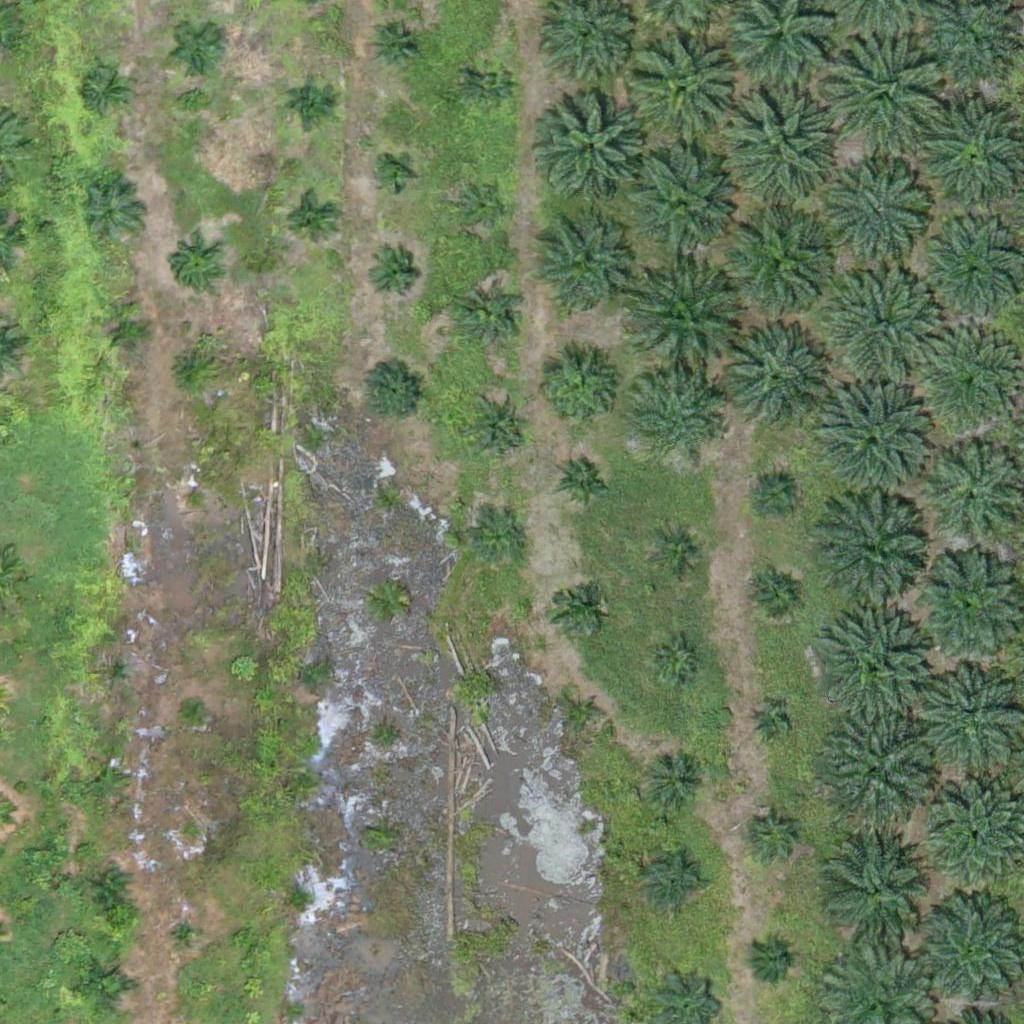Kelapa_Sawit: (715, 81, 840, 207), (822, 29, 947, 155), (830, 266, 943, 380), (716, 322, 829, 435), (820, 611, 933, 724), (821, 713, 934, 826), (821, 828, 934, 941), (908, 322, 1021, 435), (722, 210, 834, 324), (630, 266, 742, 380), (626, 150, 738, 264), (629, 33, 741, 147), (818, 388, 930, 501), (818, 500, 930, 613), (921, 227, 1021, 328), (833, 167, 933, 268), (542, 97, 642, 197), (530, 223, 630, 323), (532, 346, 619, 434), (632, 373, 719, 461), (467, 398, 530, 461), (81, 181, 144, 244), (362, 357, 425, 420), (461, 288, 523, 351), (646, 752, 708, 815), (645, 849, 707, 912), (555, 450, 617, 513), (74, 955, 136, 1018), (284, 194, 334, 245), (368, 248, 418, 299), (748, 809, 798, 860), (102, 307, 152, 358), (164, 342, 214, 393), (744, 933, 794, 984), (474, 517, 524, 567), (550, 581, 600, 631), (466, 60, 516, 110), (286, 77, 336, 127), (174, 22, 224, 72), (81, 65, 131, 115), (169, 240, 219, 290), (652, 637, 702, 687), (653, 528, 703, 578), (455, 179, 505, 229), (371, 19, 421, 69), (750, 469, 800, 519), (751, 572, 801, 622), (375, 154, 413, 192), (567, 695, 605, 733), (750, 704, 788, 742), (168, 917, 206, 955), (92, 869, 130, 907), (88, 760, 126, 798), (97, 654, 134, 692), (182, 694, 207, 719), (179, 485, 204, 510)
